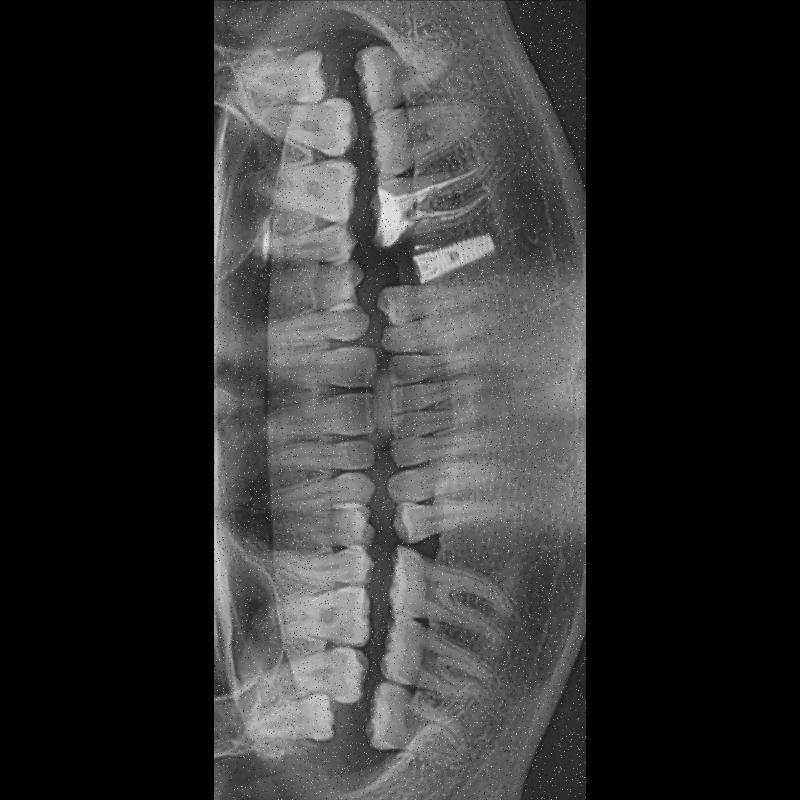osstem: (411, 234, 499, 280)
